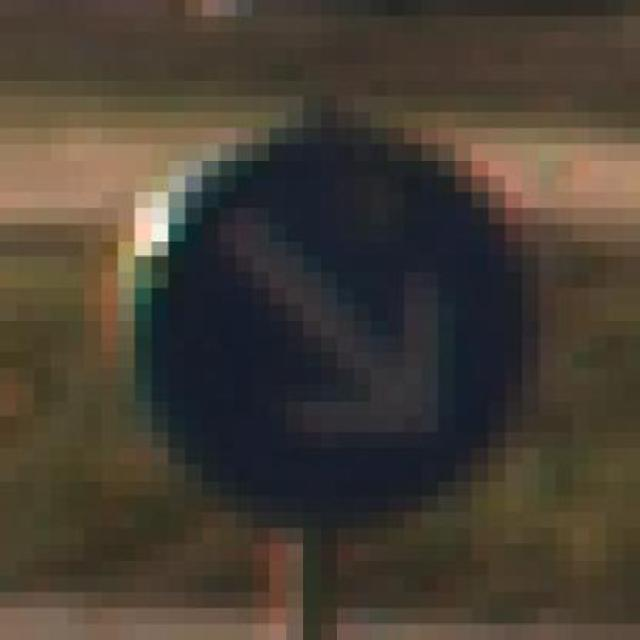Keep-Right: (101, 112, 556, 512)
